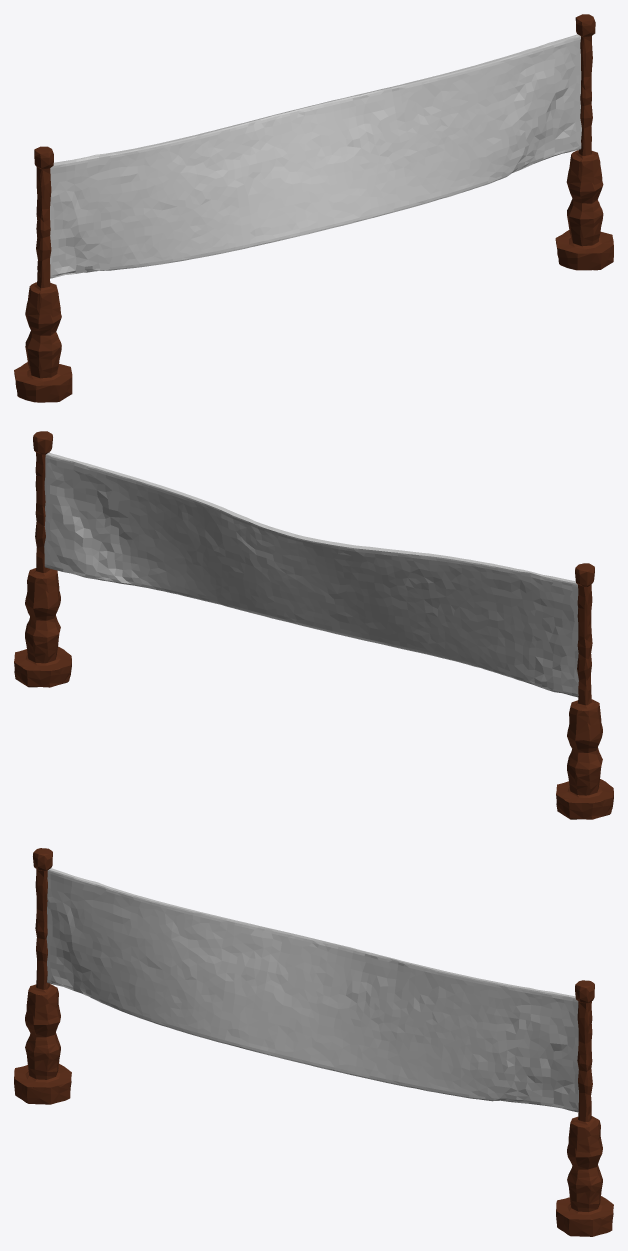
Rendered from DesertLandSnakeFlag0238.obj.
3 renders of one model, top to bottom at view 1: azimuth 30°, elevation 25°; view 2: azimuth 150°, elevation 25°; view 3: azimuth 330°, elevation 25°, orthographic.
Visible parts, largest first — view 1: Cube.003, Cube, Cube.002; view 2: Cube.003, Cube, Cube.002; view 3: Cube.003, Cube.002, Cube.
Boxes of the visible parts, box(x1,y1,x2,y2) form: Cube.003: box(50, 34, 581, 278); Cube: box(14, 146, 72, 402); Cube.002: box(555, 14, 613, 270); Cube.003: box(44, 452, 578, 697); Cube: box(556, 563, 613, 819); Cube.002: box(14, 431, 71, 687); Cube.003: box(46, 868, 578, 1112); Cube.002: box(556, 980, 613, 1236); Cube: box(14, 848, 71, 1104).
Bounding box in the file's own units: 27.57 × 10.7 × 2.57.
